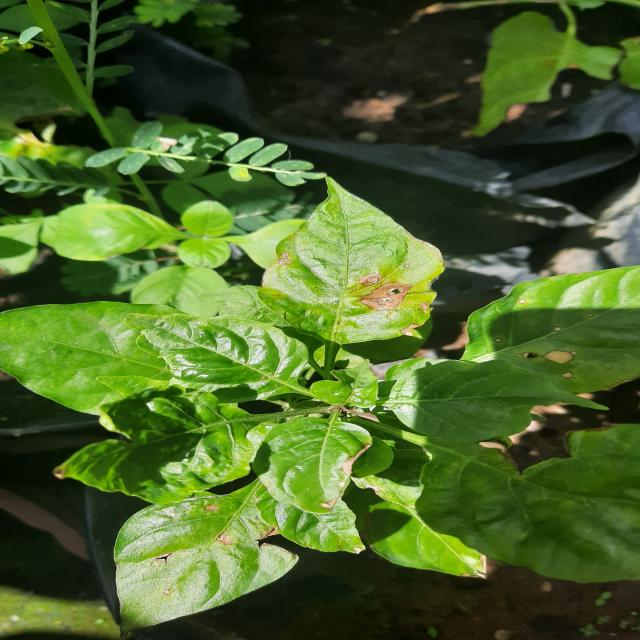bercak_daun: (282, 219, 449, 349)
